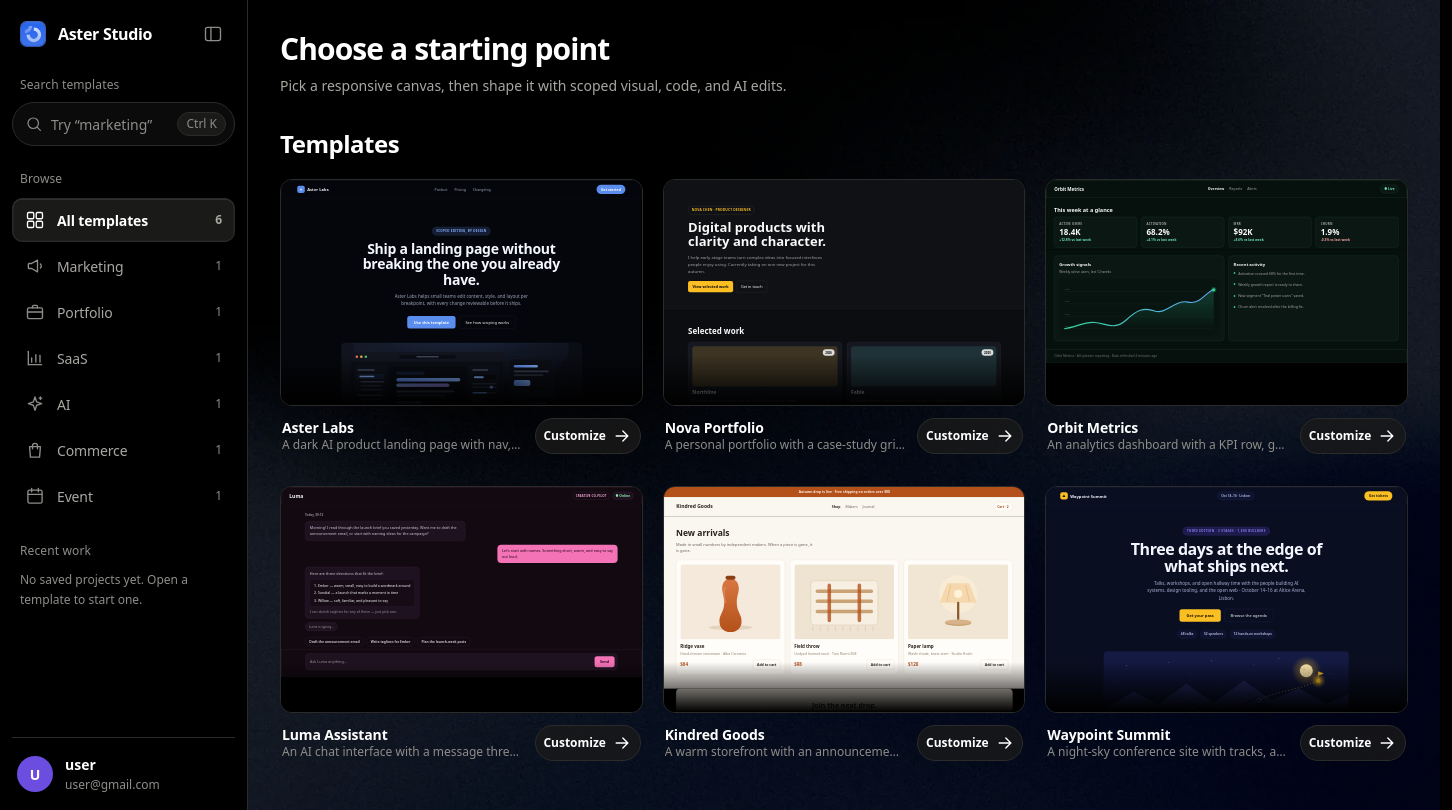
template gallery › filters by searchable template metadata and can recover from an empty result
Type "portfolio" into the search field labelled "Search templates" at (110, 124), box [51,104,170,144]
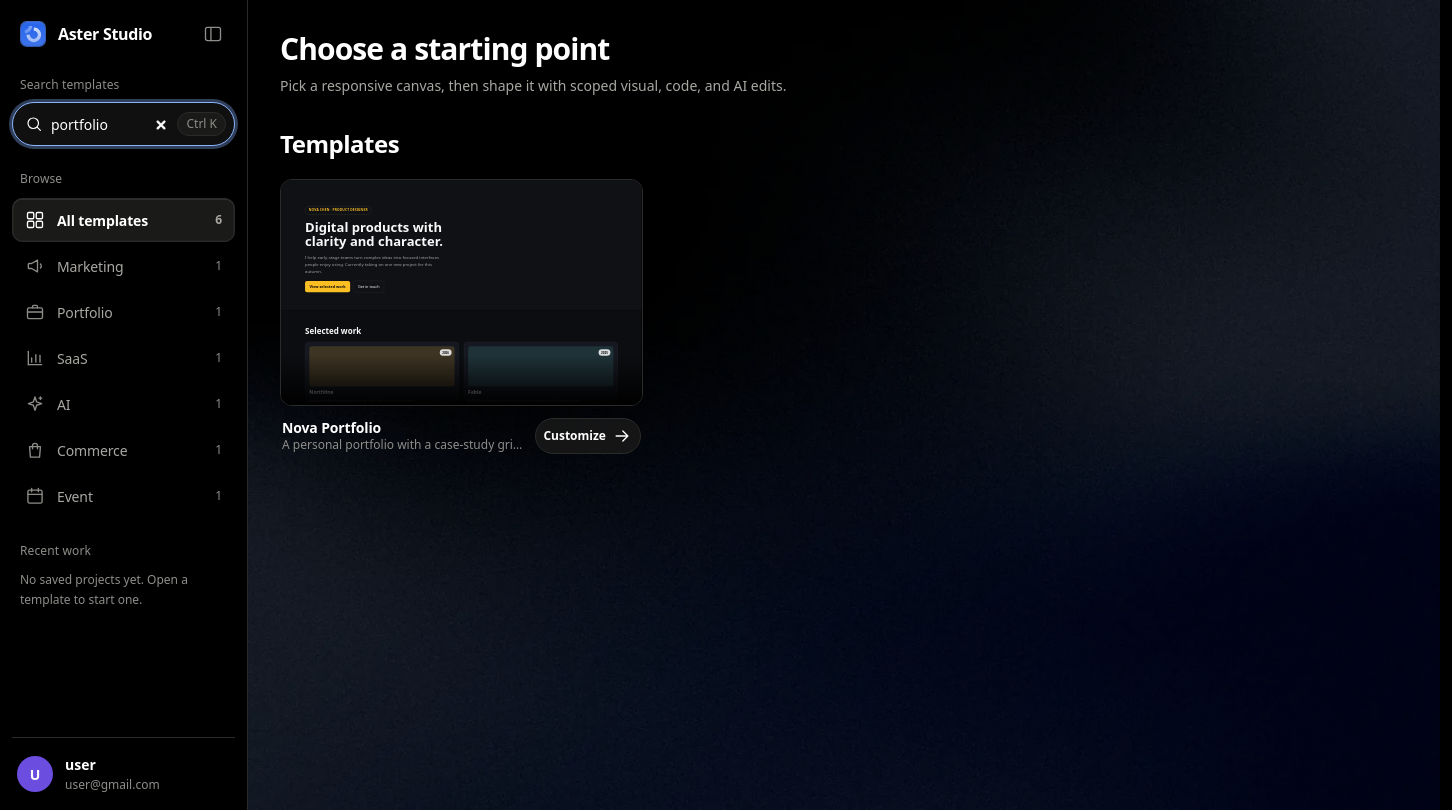
Expected: the heading "Nova Portfolio" is shown, [282,418,381,437]
Now the text "Aster Labs" is gone
Replace the text in the search field labelled "Search templates" with "restaurant" at (110, 124), box [51,104,170,144]
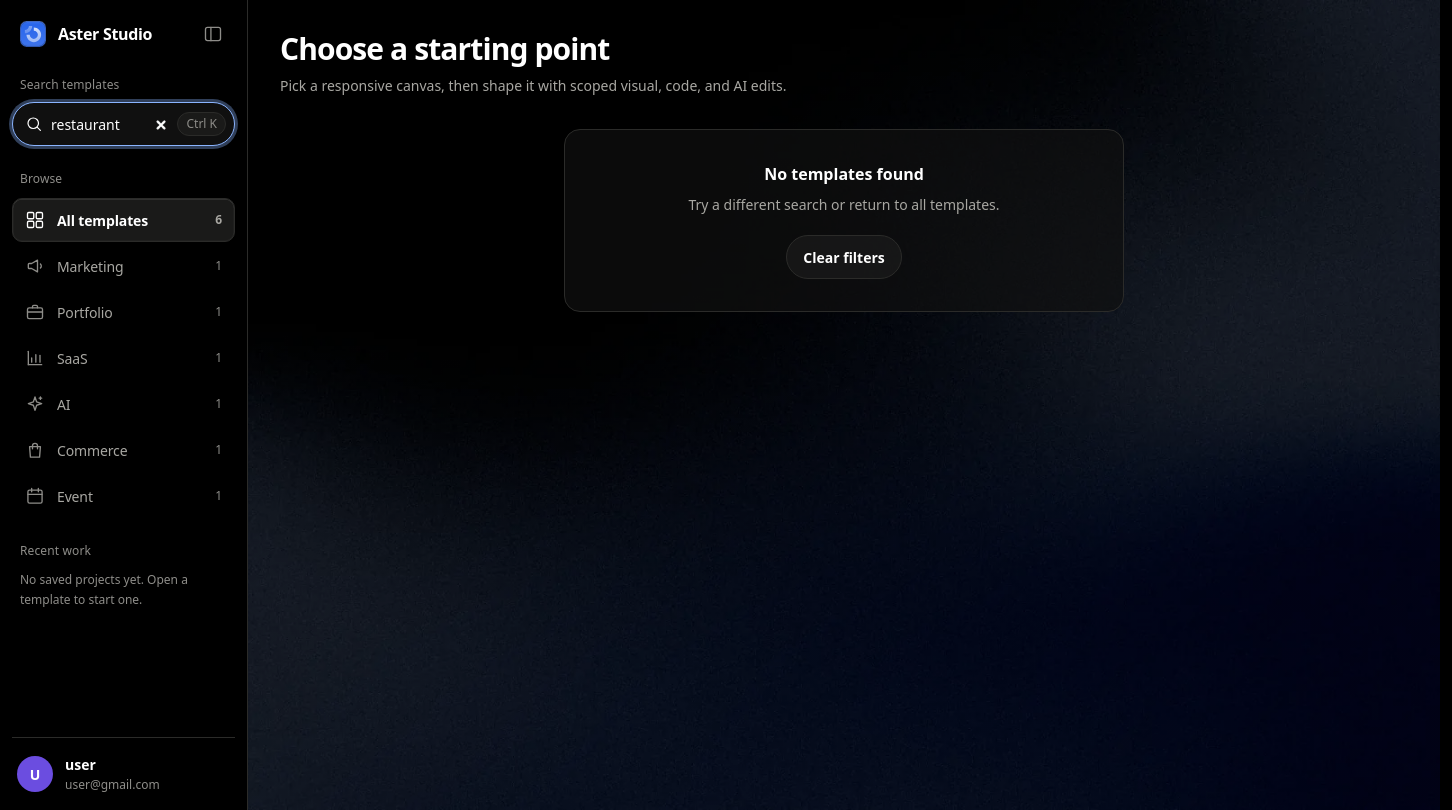
Now the heading "No templates found" is shown, box [764,163,924,185]
Click the button "Clear filters" at (844, 257), box [786,235,902,279]
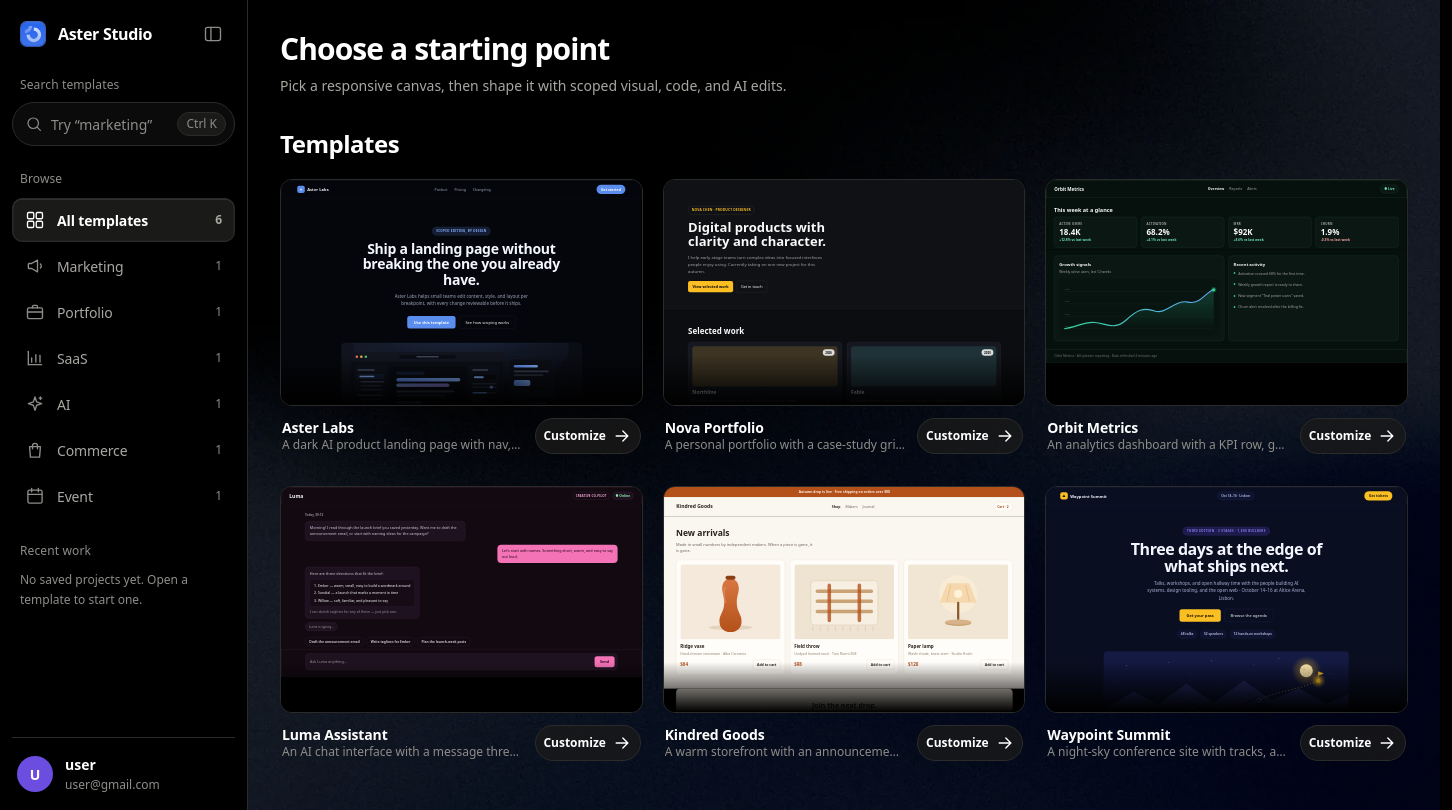
Now the heading "Aster Labs" is shown, box [282,418,354,437]
